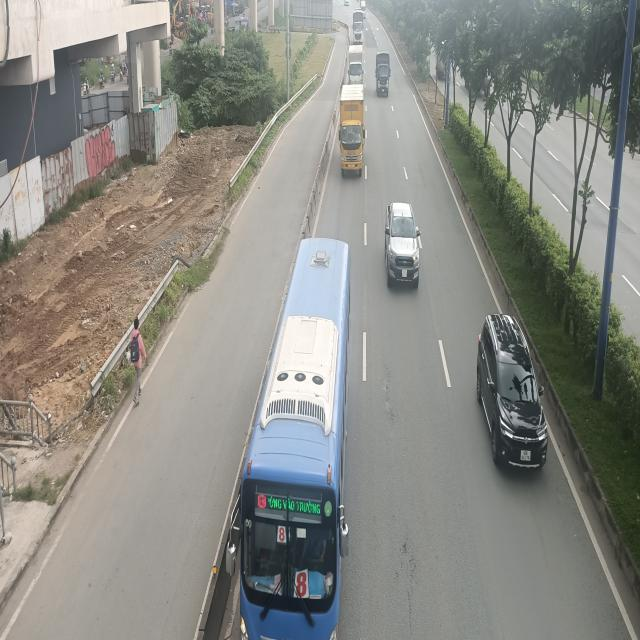car: (474, 312, 548, 468), (384, 200, 421, 290)
coach: (224, 235, 350, 640)
truck: (339, 84, 365, 177), (375, 52, 391, 100), (348, 46, 364, 83), (353, 11, 363, 43)
